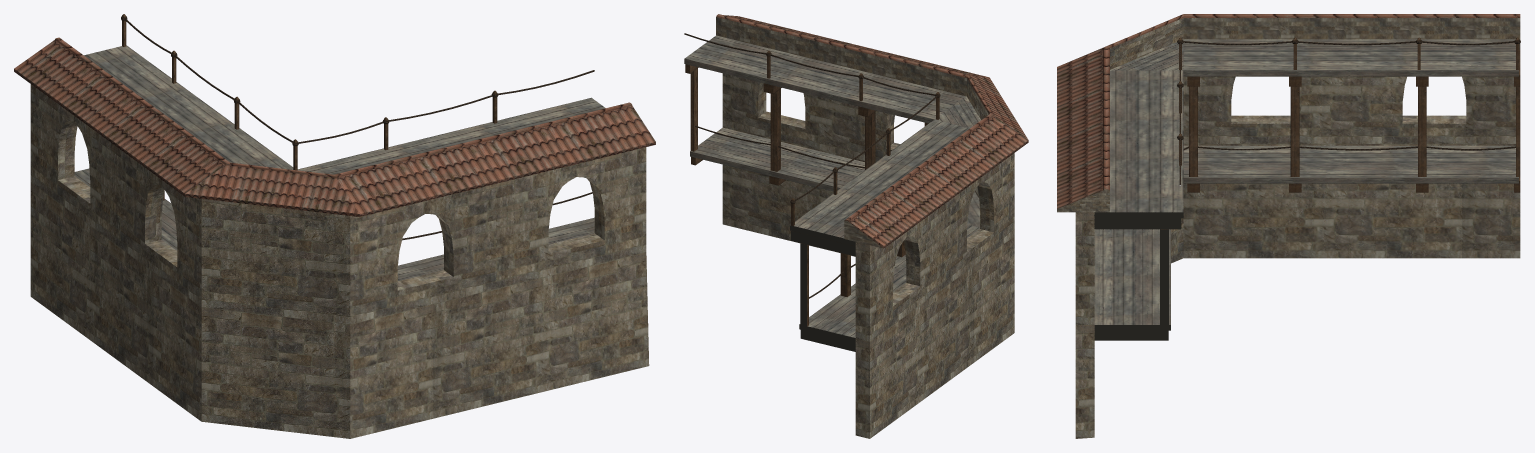
The model's file is FortWallRCornerL2.dae.
3 views of the same model, side by side, from view 1: azimuth 30°, elevation 25°; view 2: azimuth 150°, elevation 25°; view 3: azimuth 270°, elevation 25° (orthographic). The views are drawn at different scales.
Visible parts, largest first — view 1: forts_stone_copy34-0; view 2: forts_stone_copy34-0; view 3: forts_stone_copy34-0.
Part boxes in pixels (x1=…): forts_stone_copy34-0: x1=14, y1=14, x2=655, y2=438; forts_stone_copy34-0: x1=684, y1=14, x2=1028, y2=438; forts_stone_copy34-0: x1=1057, y1=14, x2=1520, y2=438.
Bounding box in the file's own units: 14.65 × 8.92 × 14.61.
